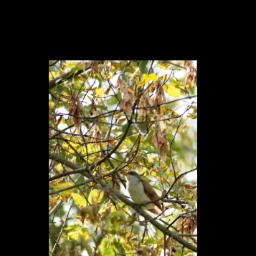Cuckoo: (118, 166, 170, 214)
